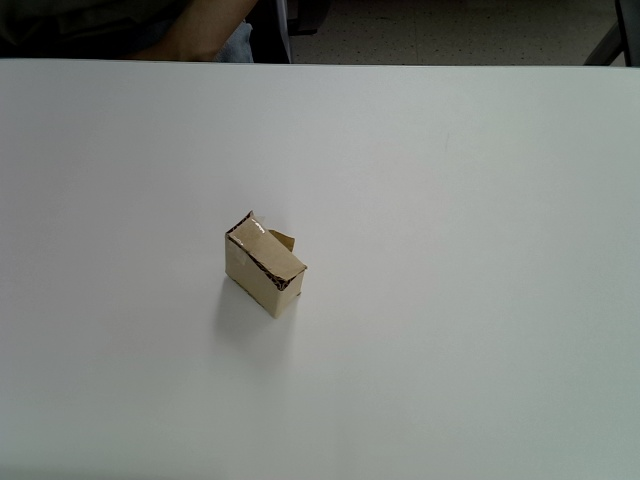defect: (223, 210, 309, 319)
